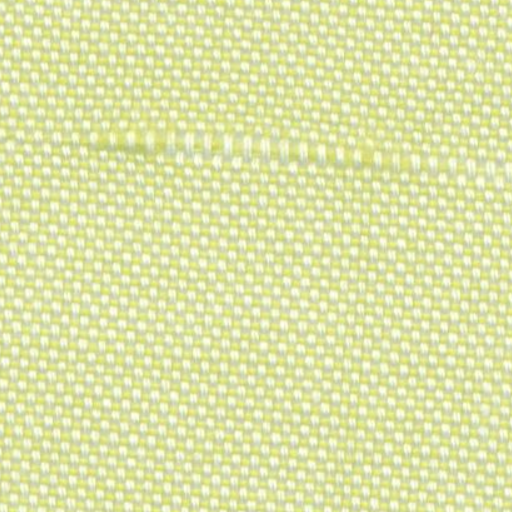DaiSha: (53, 114, 500, 190)
